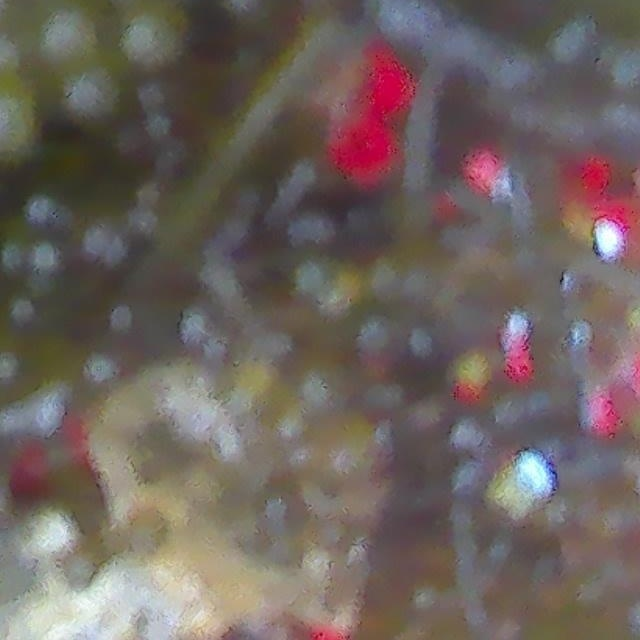SeaGrape: (39, 3, 97, 62), (123, 12, 181, 68)
